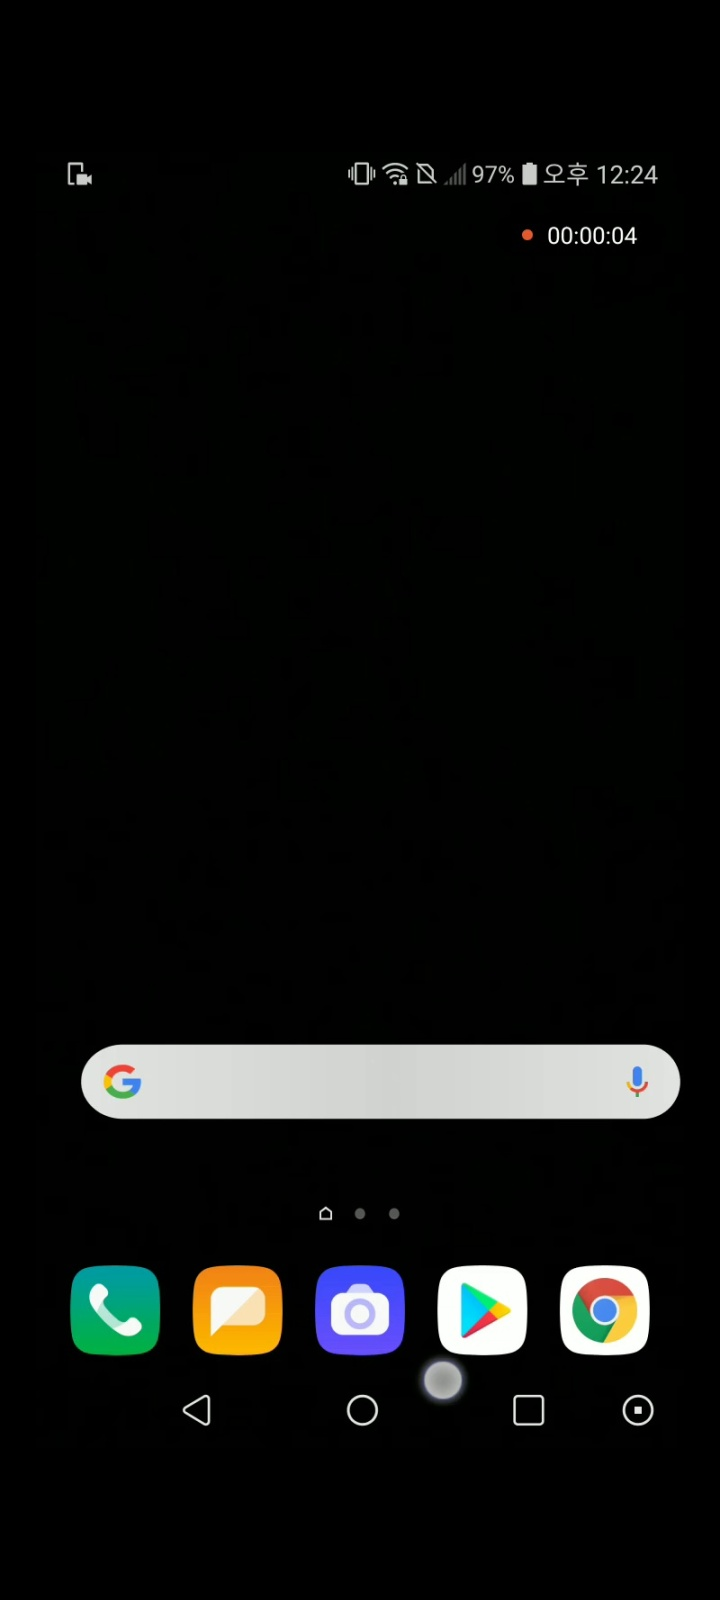Cursor: (423, 1357, 468, 1402)
